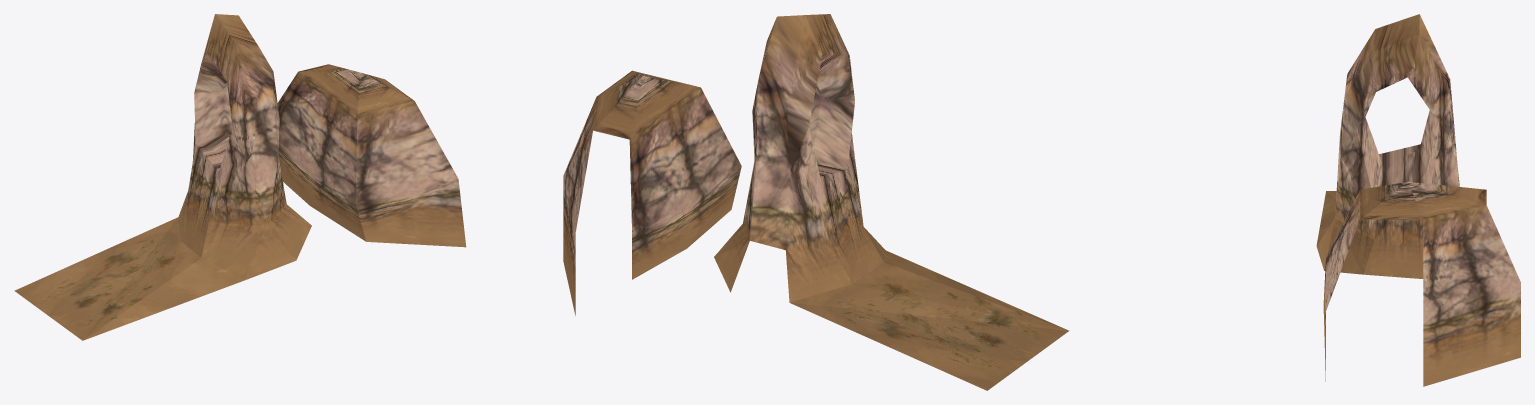
3 views of the same model, side by side, from view 1: azimuth 30°, elevation 25°; view 2: azimuth 150°, elevation 25°; view 3: azimuth 270°, elevation 25° (orthographic). The views are drawn at different scales.
Parts seen in each view (by area): view 1: 1; view 2: 1; view 3: 1.
Part boxes in pixels (bbox=[...]): 1: bbox=[14, 14, 466, 340]; 1: bbox=[563, 14, 1069, 390]; 1: bbox=[1316, 14, 1520, 386].
Bounding box in the file's own units: 6923 × 4342 × 4991.
3 materials, 3 textured.
